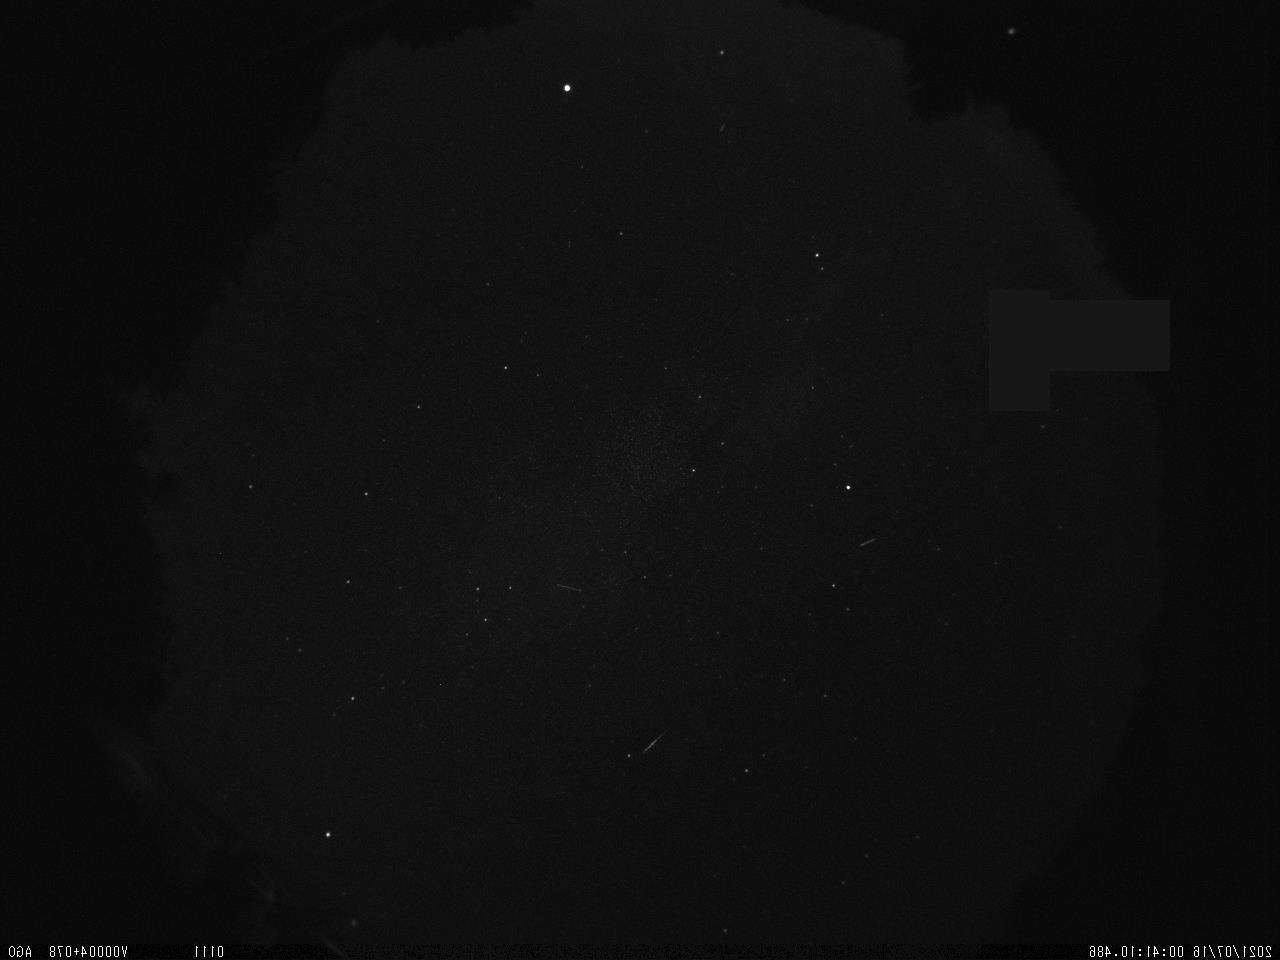meteor: (609, 724, 671, 769), (853, 529, 885, 554)
